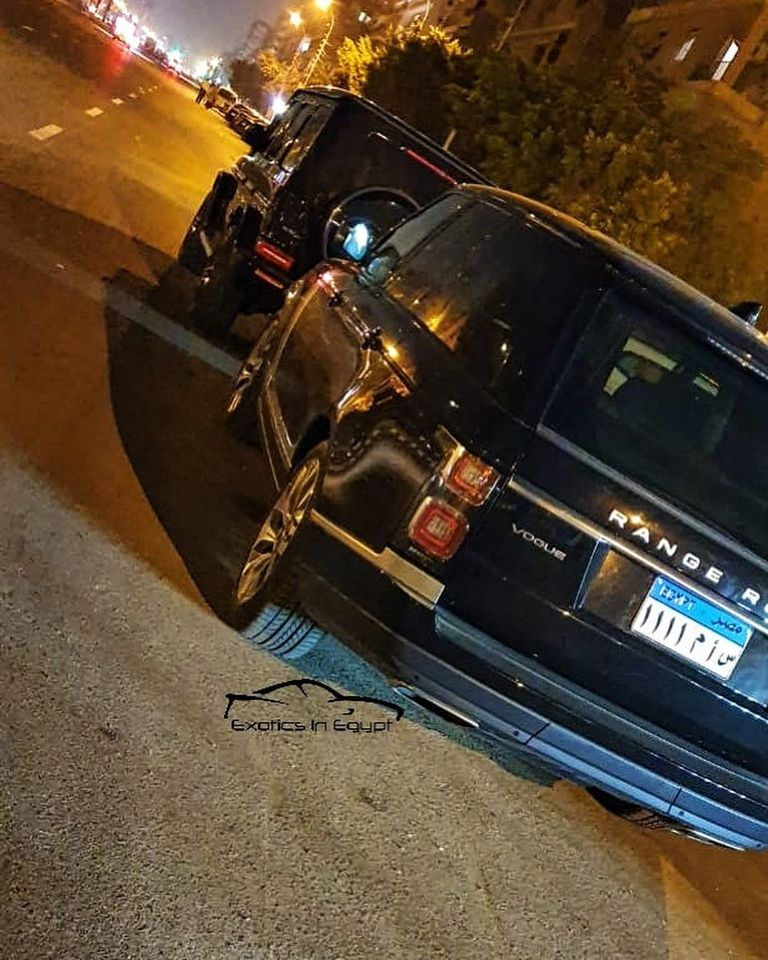carpl: (632, 596, 741, 680)
